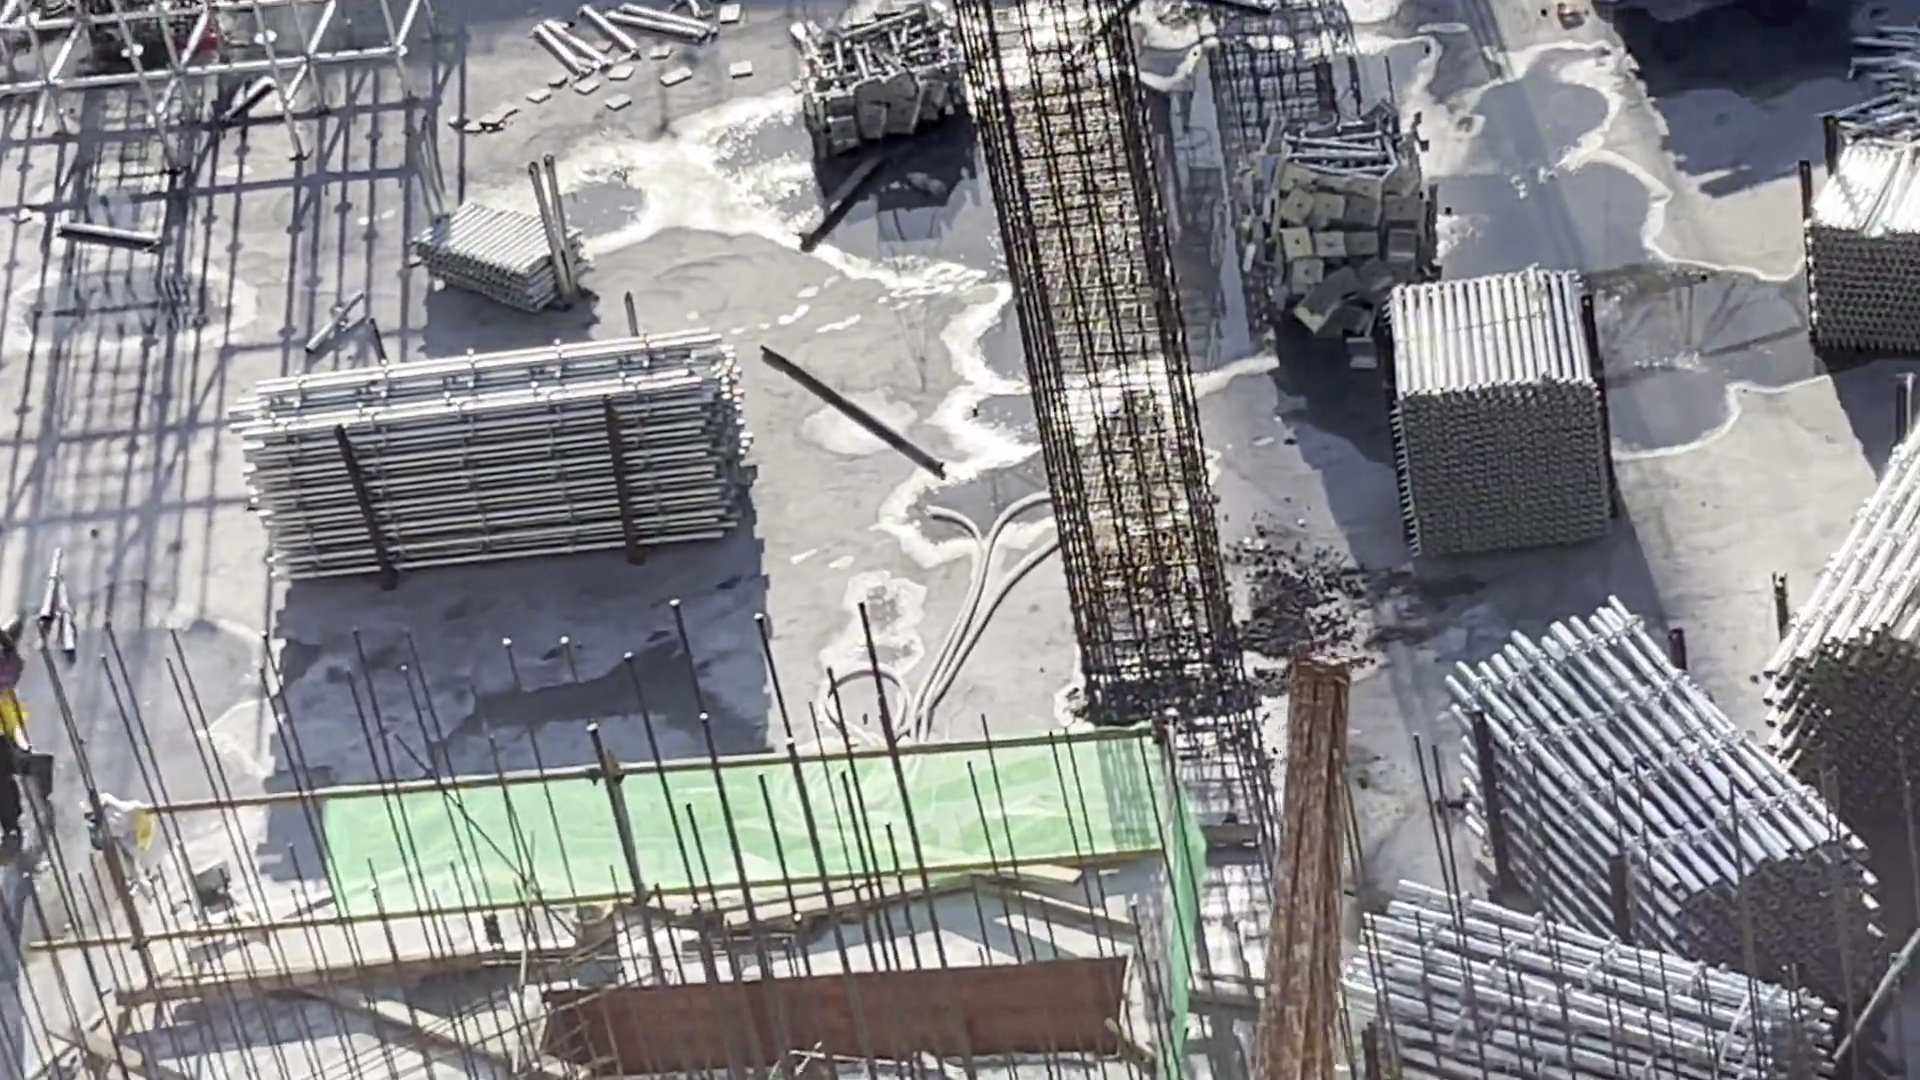scaffold: (1433, 600, 1896, 1001), (237, 322, 777, 582), (1331, 874, 1851, 1073), (1755, 378, 1920, 833), (1379, 262, 1625, 558), (1788, 127, 1919, 365), (397, 191, 589, 316)
